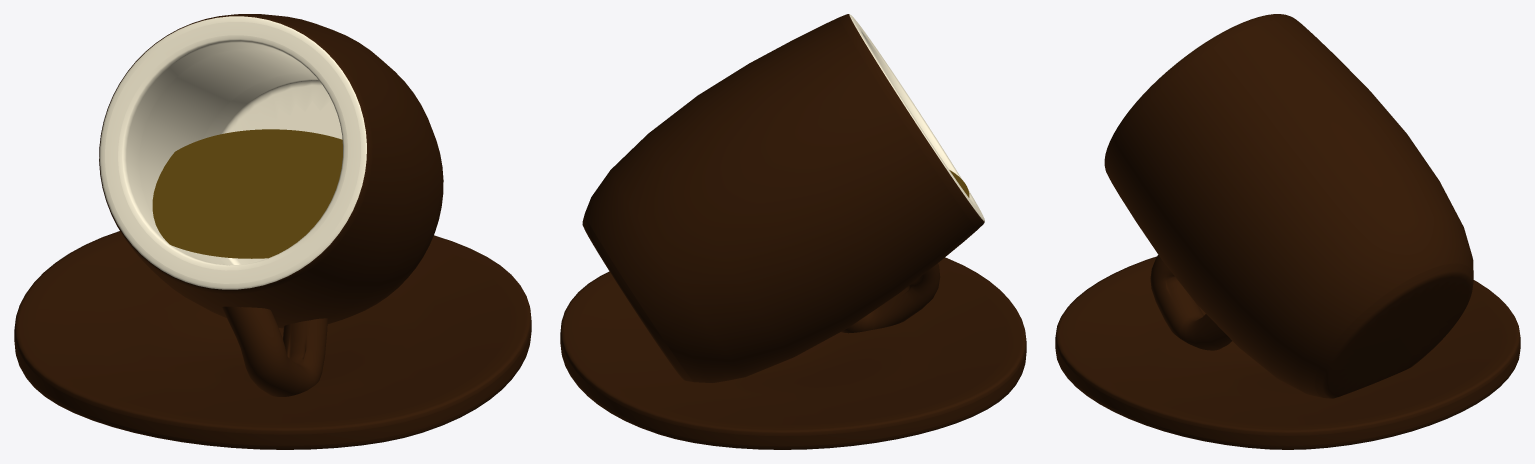
Rendered from hotChocolateBallista.glb.
The picture shows the model from 3 angles, left to right: view 1: azimuth 30°, elevation 25°; view 2: azimuth 150°, elevation 25°; view 3: azimuth 270°, elevation 25°; orthographic projection. The views are drawn at different scales.
Visible parts, largest first — view 1: HOT_CHOCOLATE_BALLISTA; view 2: HOT_CHOCOLATE_BALLISTA; view 3: HOT_CHOCOLATE_BALLISTA.
Part boxes in pixels (x1,y1,x2,y2): HOT_CHOCOLATE_BALLISTA: (14,14,531,449); HOT_CHOCOLATE_BALLISTA: (560,14,1026,449); HOT_CHOCOLATE_BALLISTA: (1055,14,1520,449).
Size of the model in its own units: 0.9228 by 0.7337 by 0.9228.
